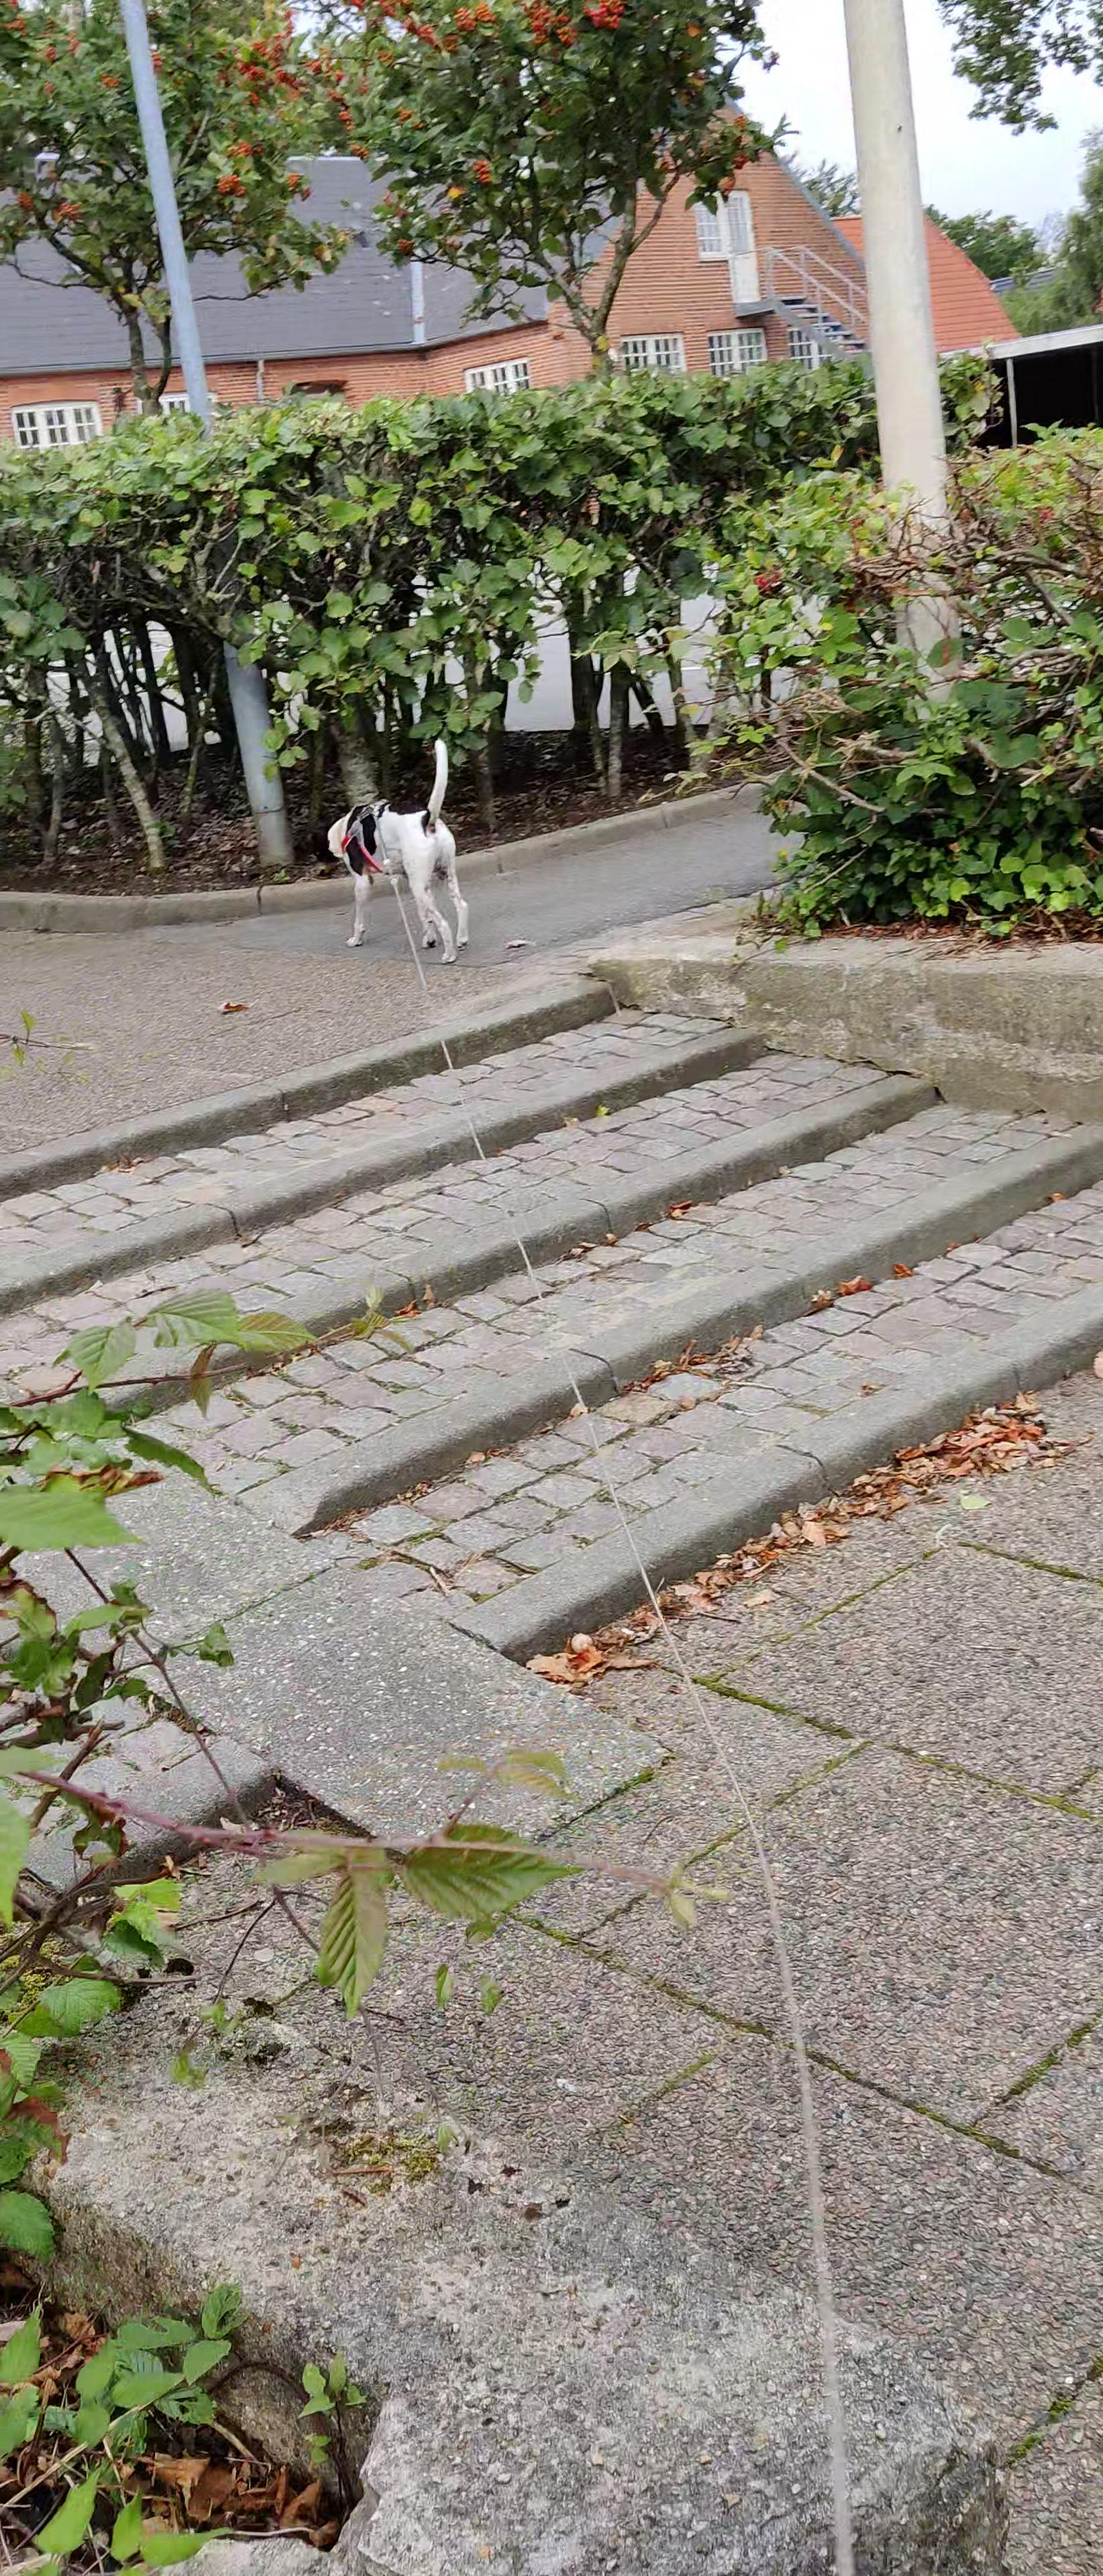Dog: (294, 729, 478, 971)
